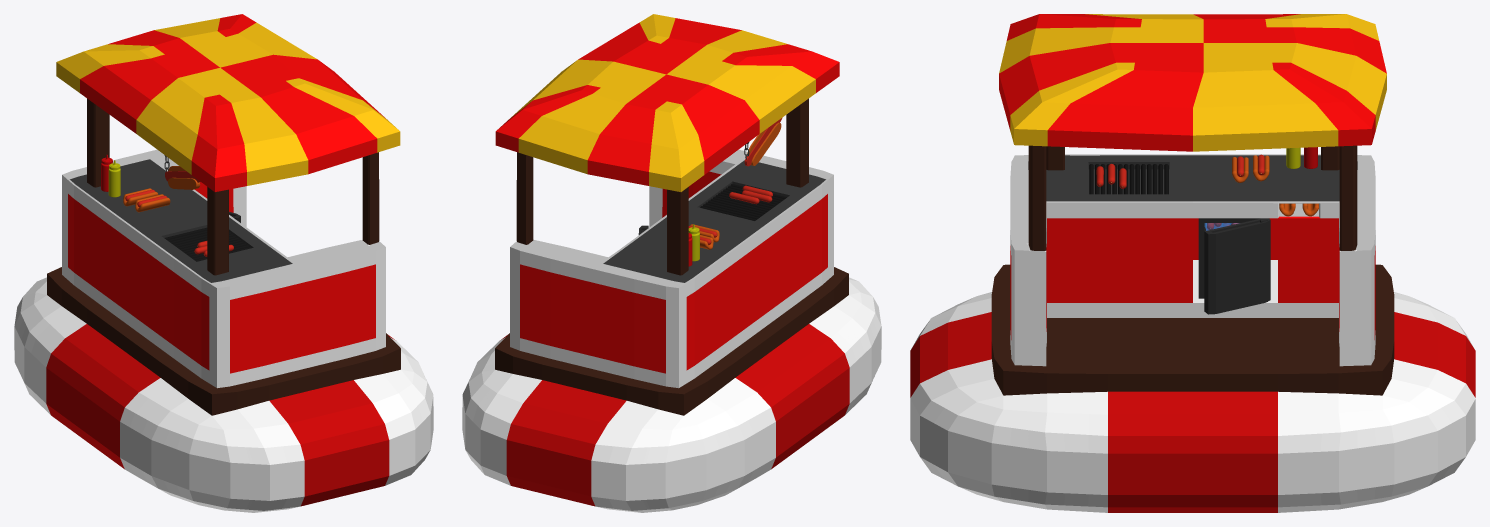
File: FloatStand.obj
3 views of the same model, side by side, from view 1: azimuth 30°, elevation 25°; view 2: azimuth 150°, elevation 25°; view 3: azimuth 270°, elevation 25° (orthographic). The views are drawn at different scales.
Parts seen in each view (by area): view 1: Base, Grill, Sign; view 2: Base, Grill, Sign, Grilling_Sausages; view 3: Base, Fridge_Door, Grill, Fridge.
Part boxes in pixels (x1,y1,x2,y2): Base: [14, 14, 433, 512]; Grill: [164, 227, 250, 261]; Sign: [165, 166, 200, 189]; Base: [462, 14, 881, 512]; Grill: [700, 184, 786, 220]; Sign: [744, 117, 782, 166]; Grilling_Sausages: [729, 185, 772, 204]; Base: [910, 14, 1475, 512]; Fridge_Door: [1204, 218, 1270, 314]; Grill: [1089, 164, 1168, 194]; Fridge: [1198, 218, 1269, 301].
Bounding box in the file's own units: 4.91 × 6.11 × 7.42.
